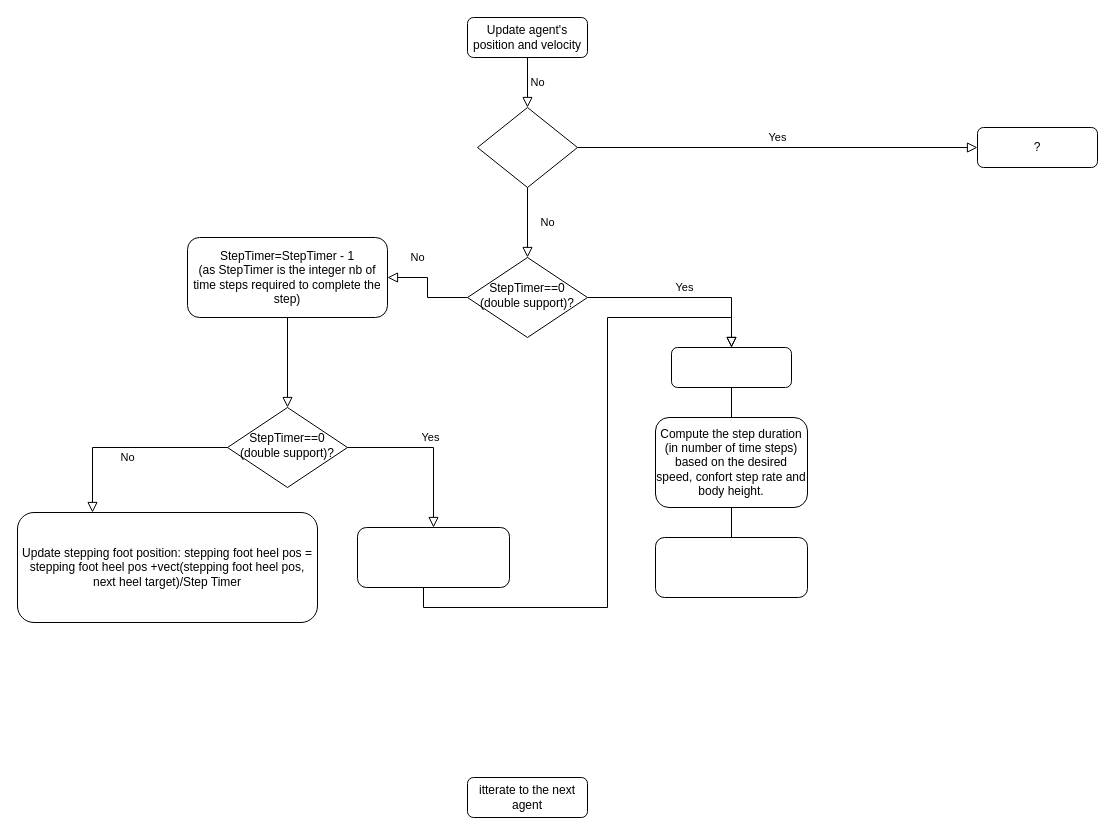
Image size: 1115x835. Some labels were removed from this diagram. The centre of each missing label's shape, as x and y in pixels:
"Compute location of the next foot Goal" goes at (731,367).
"Physical interaction?" goes at (527,147).
"Set StepTimer to Step duration time (int: nb of time steps)" goes at (731,567).
"Set the closest foot as SupportFoot" goes at (433,557).
